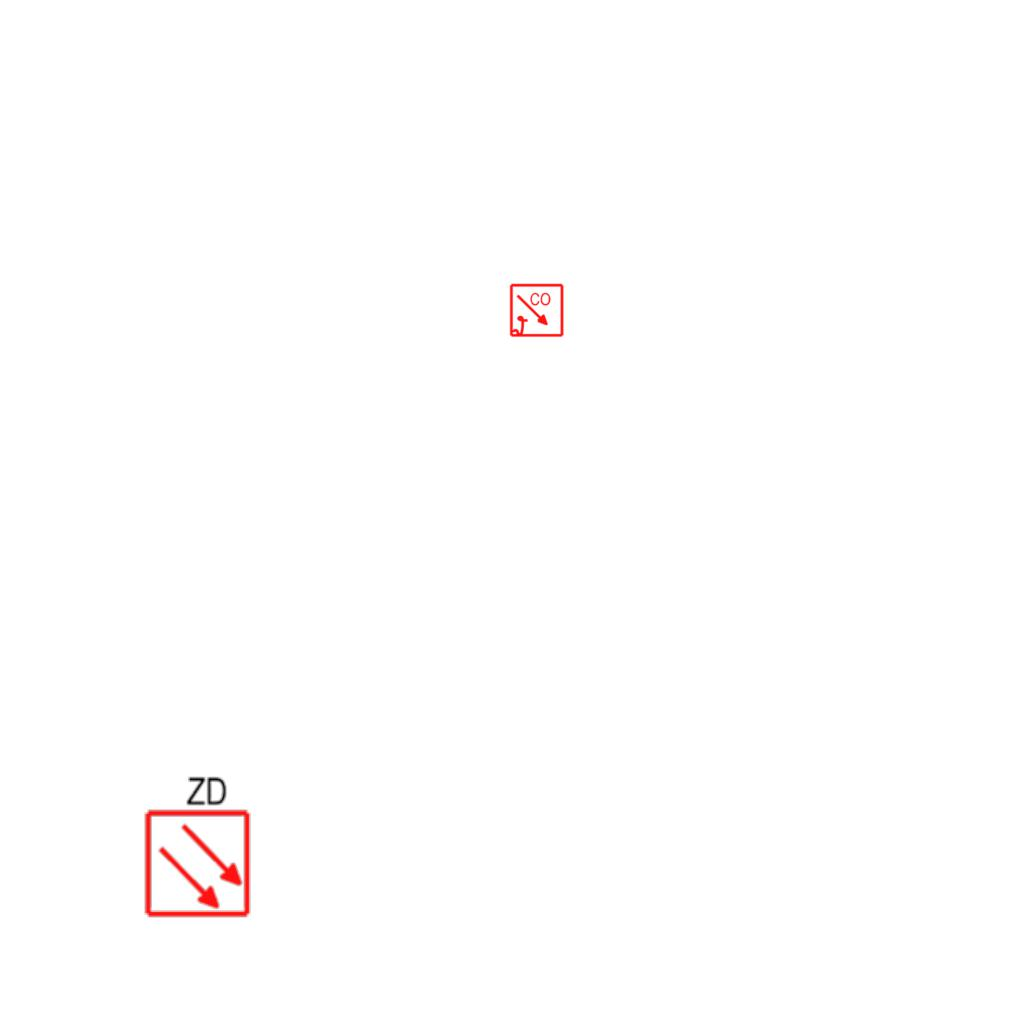ROA_Rauchmelder_optisch_mit_Signalgeber_(Sockelsirene): (509, 283, 565, 339)
ZD_Melder_in_Zwischendecke_mit_Revisionsoeffnung_mind_40_x_40_cm: (139, 770, 253, 919)
